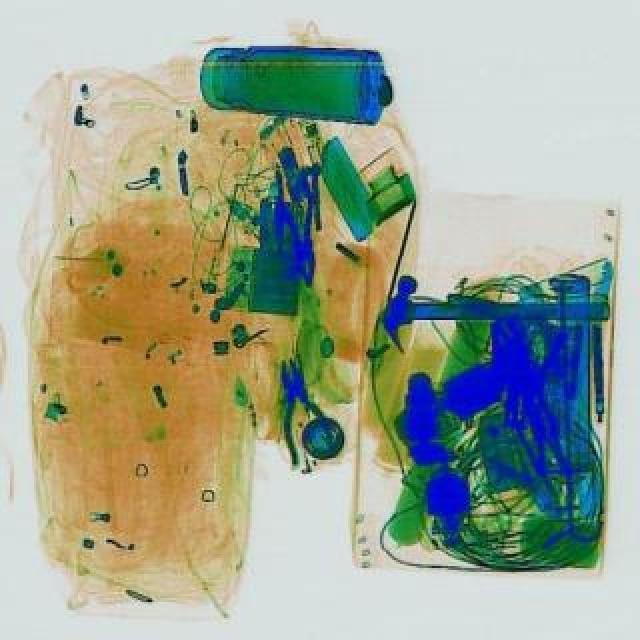wrench: (264, 350, 336, 464), (268, 162, 332, 290)
